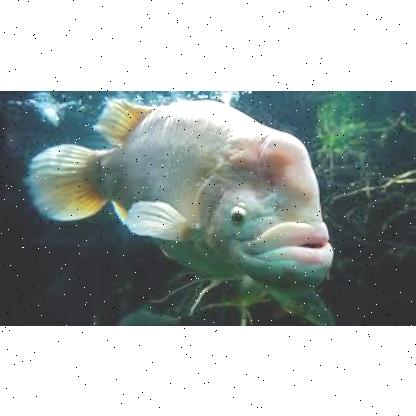gurame: (38, 96, 335, 284)
